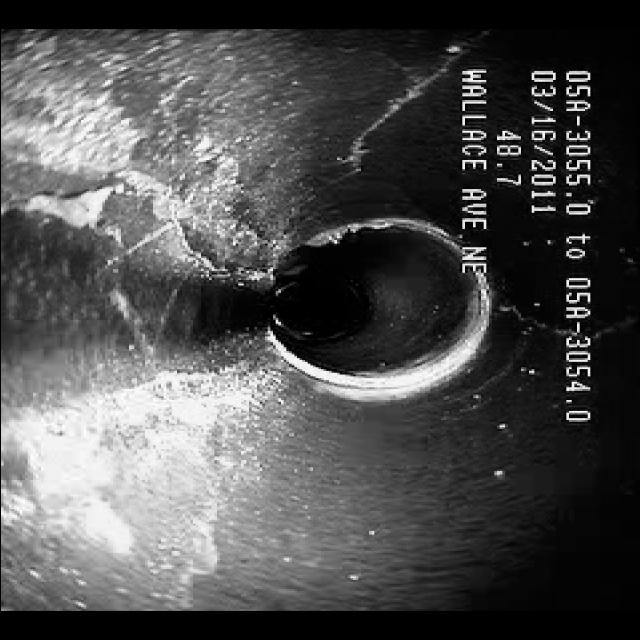Fracture: (90, 178, 253, 294), (314, 42, 450, 166)
